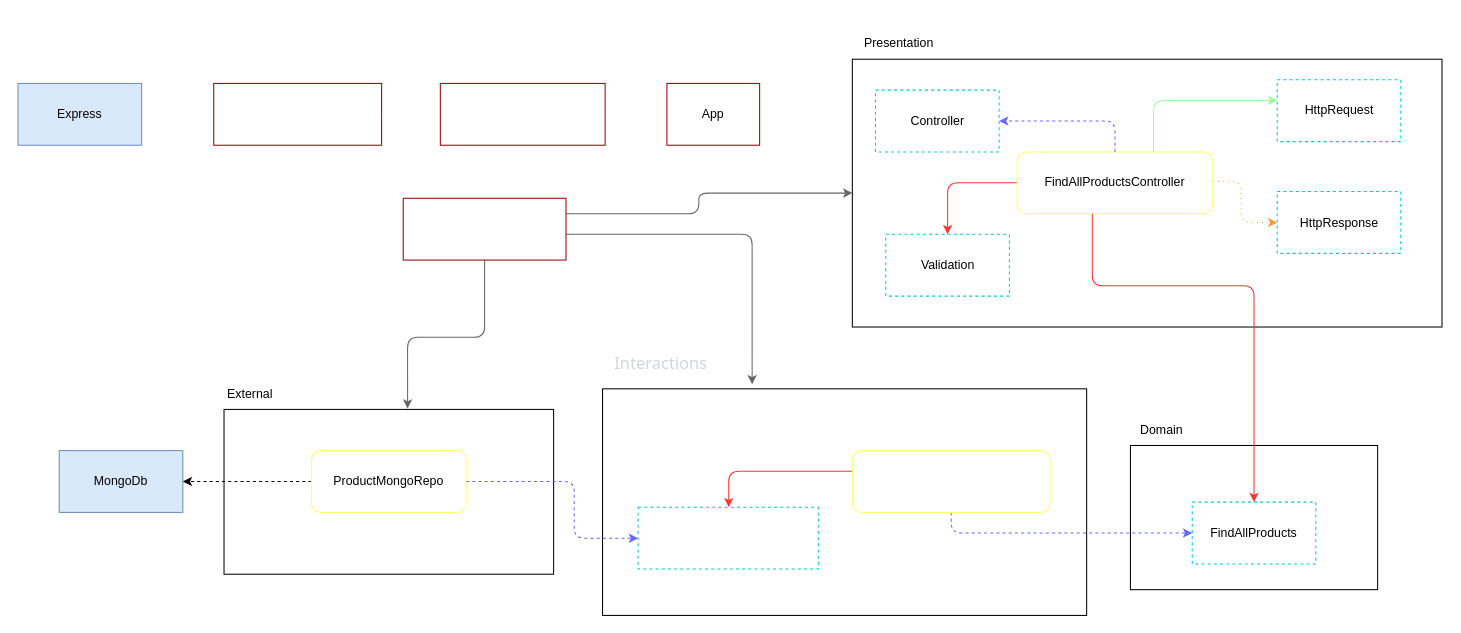
The diagram is 1461 pixels wide and 633 high, and some of its shapes have lost their labels. The centre of each missing label's shape, as x and y in pixels:
ExpressRouterAdapter: the point at 297,113
FindAllProductsFactory: the point at 484,228
FindAllProductsRepo: the point at 727,537
FindAllProductsRouter: the point at 522,113
FindAllProductsUseCase: the point at 950,481
